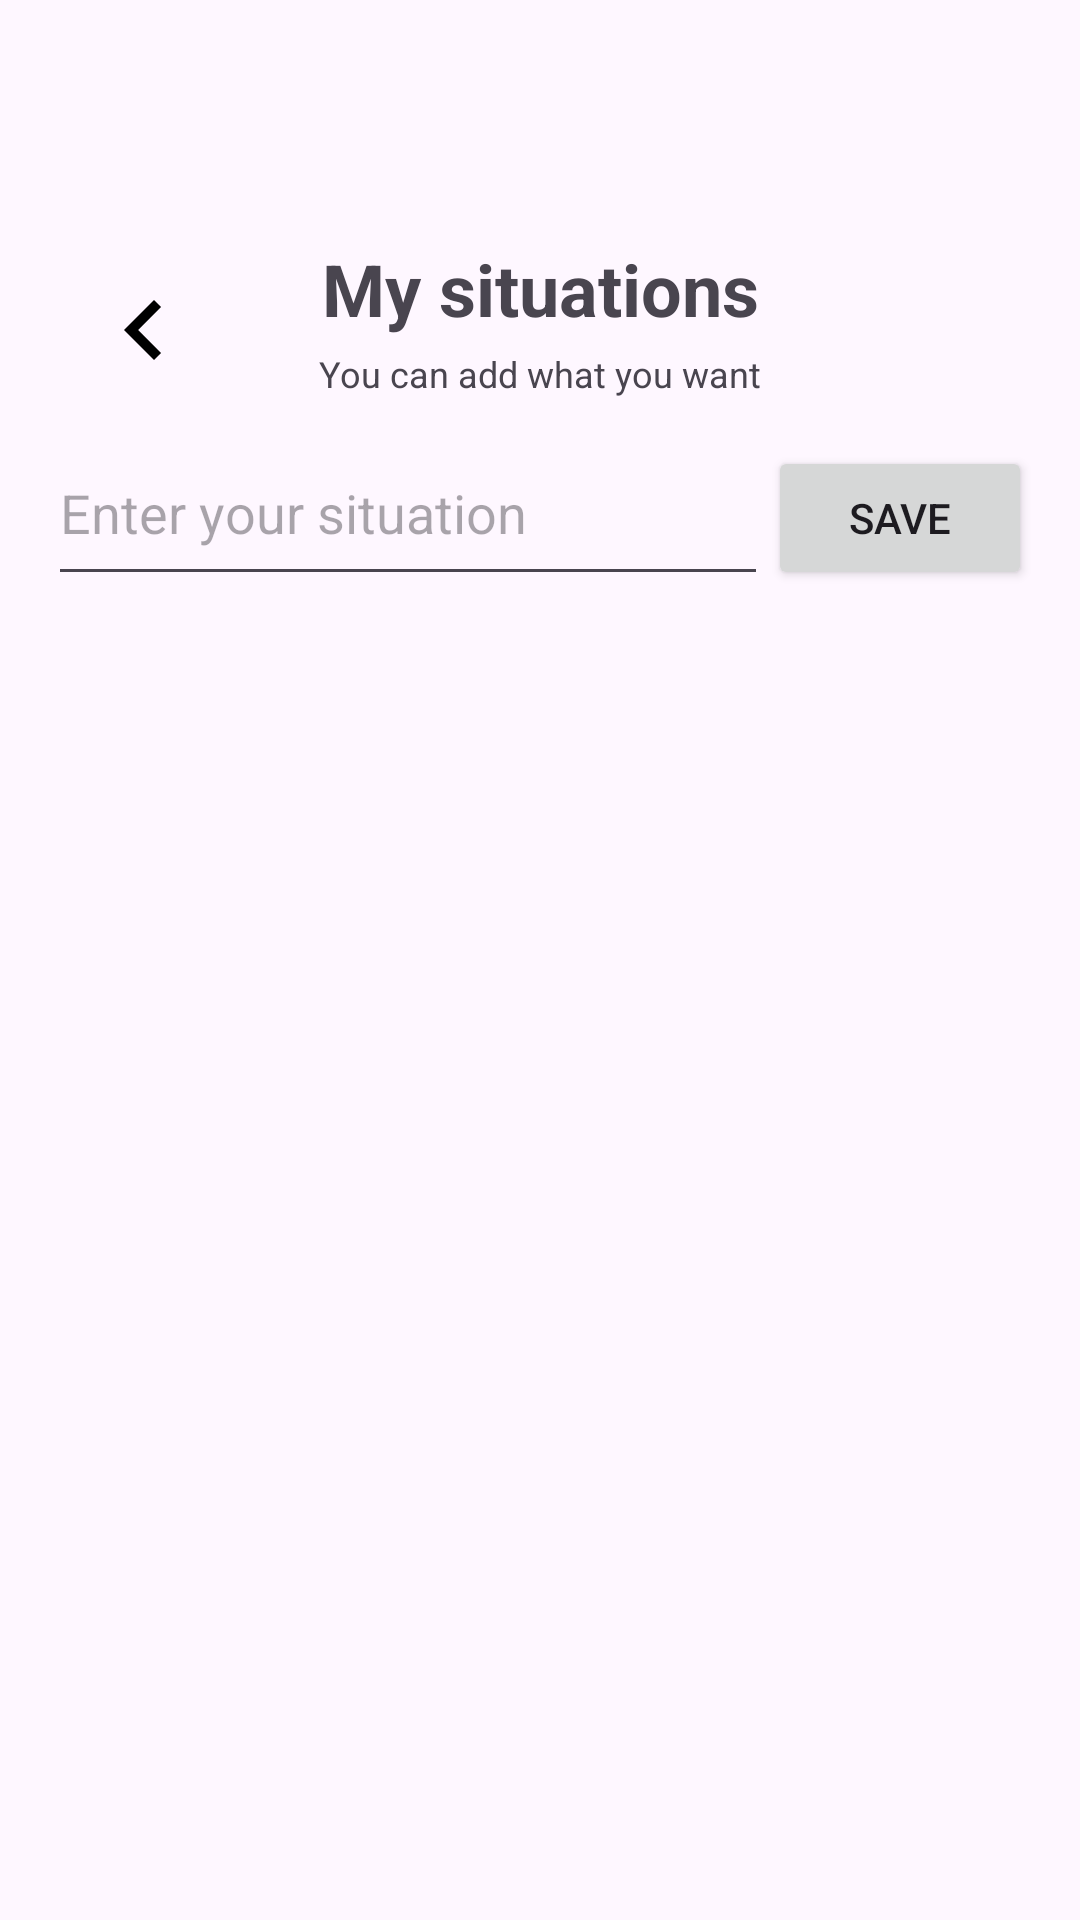

Icons on this 1080w x 1920h Android screen, each with its box as (x1, y1, x2, y2):
back: (124, 300, 161, 360)
